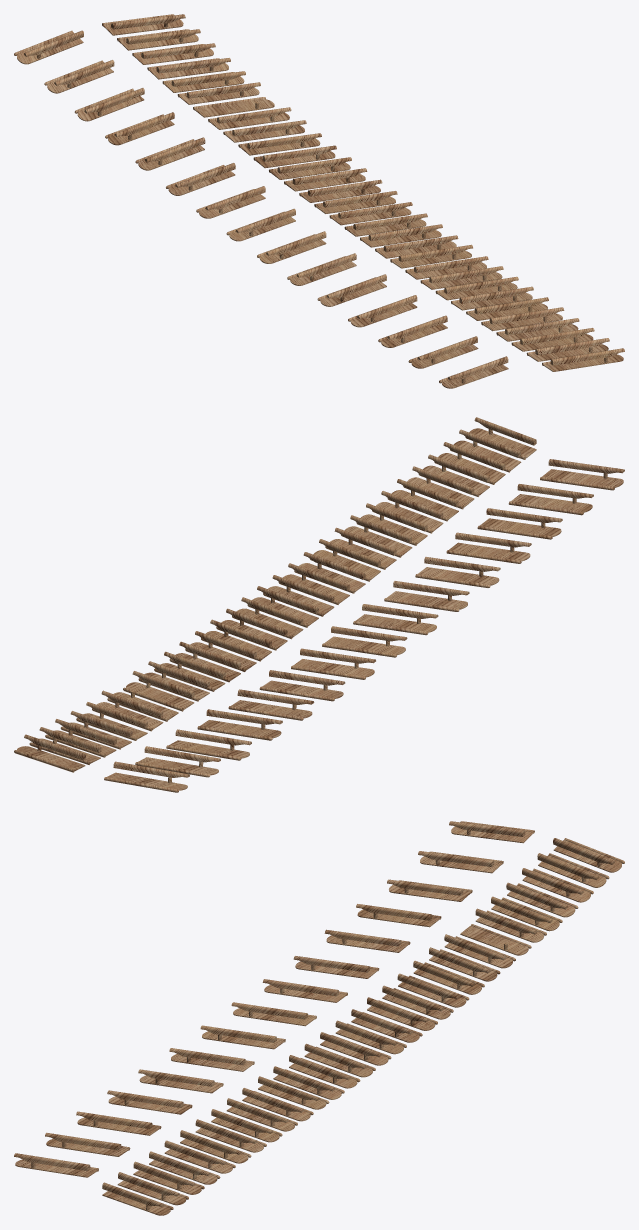
3 views of the same model, one above another, from view 1: azimuth 30°, elevation 25°; view 2: azimuth 150°, elevation 25°; view 3: azimuth 330°, elevation 25° (orthographic). The views are drawn at different scales.
Visible parts, largest first — view 1: reaseat2; view 2: reaseat2; view 3: reaseat2.
Boxes of the visible parts, <box> form: reaseat2: <box>14,14,624,388</box>; reaseat2: <box>14,417,624,792</box>; reaseat2: <box>14,821,624,1215</box>.
Size of the model in its own units: 107819 by 22962 by 526435.
Materials: 1 (1 with a texture image).
